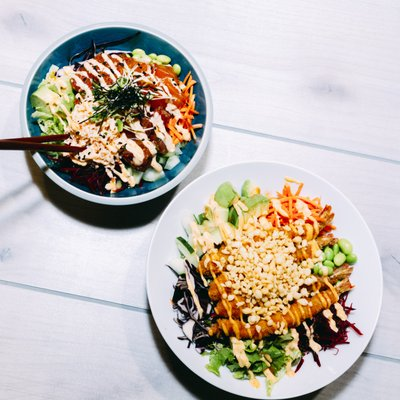sushi: (145, 160, 382, 395), (21, 23, 213, 208)
